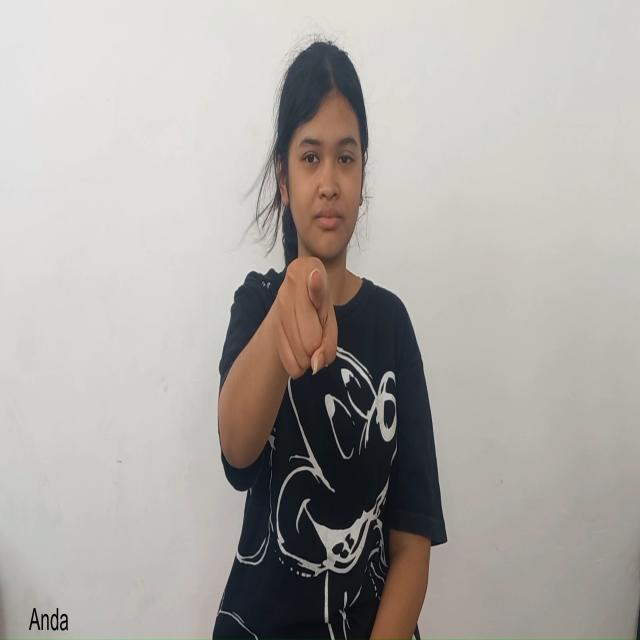Anda -BISINDO-: (239, 232, 375, 445)
